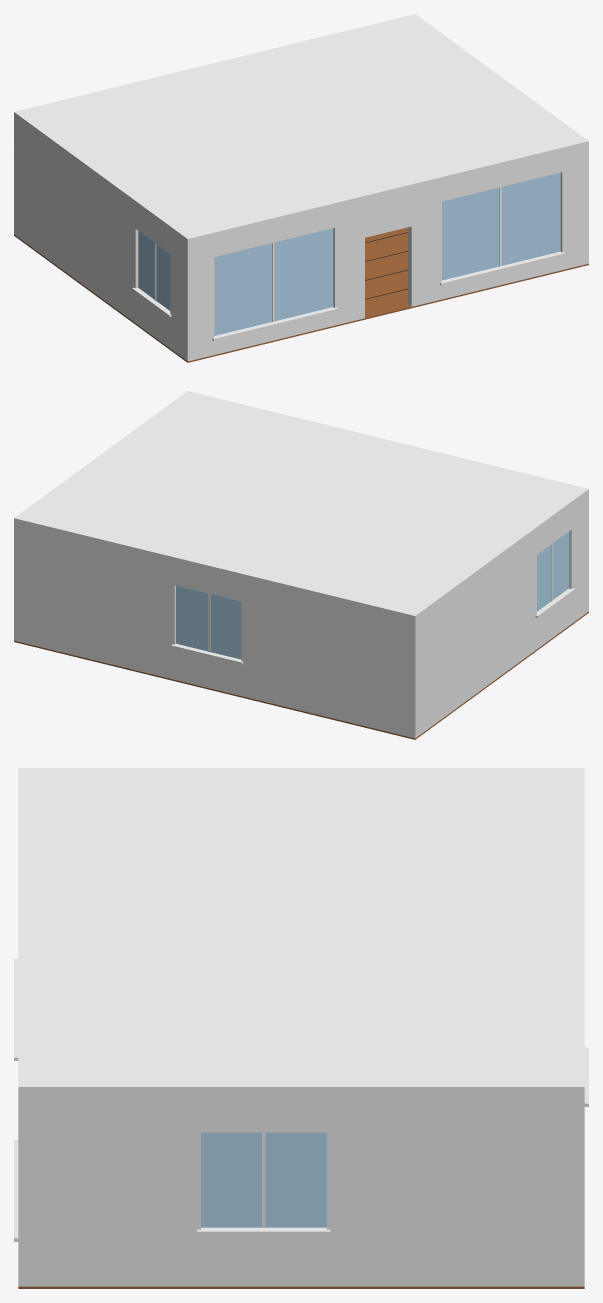
Rendered from agency-interior.glb.
3 views of the same model, one above another, from view 1: azimuth 30°, elevation 25°; view 2: azimuth 150°, elevation 25°; view 3: azimuth 270°, elevation 25° (orthographic). The views are drawn at different scales.
Visible parts, largest first — view 1: ceiling, wall_front, walls, floor; view 2: ceiling, walls, floor; view 3: ceiling, walls, wall_front, floor.
Part boxes in pixels (x1,y1,x2,y2): ceiling: (14,14,588,242); wall_front: (184,146,582,361); walls: (14,115,588,360); floor: (14,227,588,362); ceiling: (14,391,588,619); walls: (14,492,588,738); floor: (14,611,588,739); ceiling: (18,768,584,1092); walls: (19,1047,588,1286); wall_front: (14,958,30,1286); floor: (18,1286,584,1288).
Bounding box in the file's own units: 12.14 × 3.54 × 9.14.
